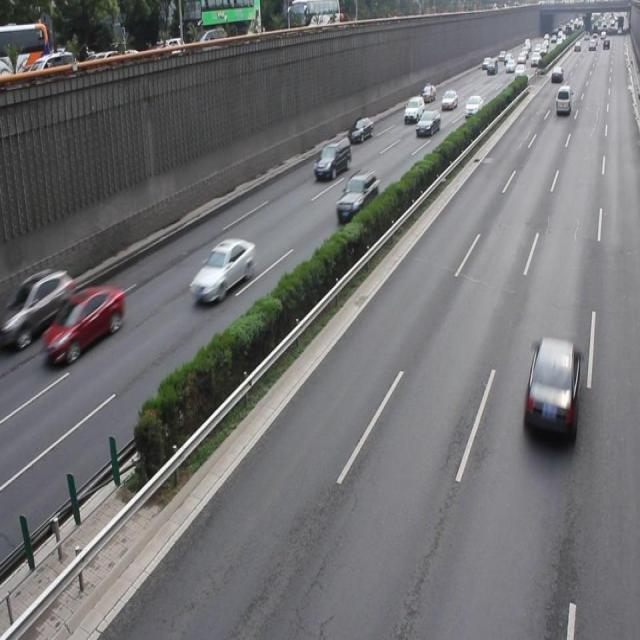car: (42, 283, 125, 364), (522, 334, 578, 447), (0, 266, 74, 342), (190, 236, 254, 300), (335, 168, 378, 224)
truck: (312, 136, 351, 179)
